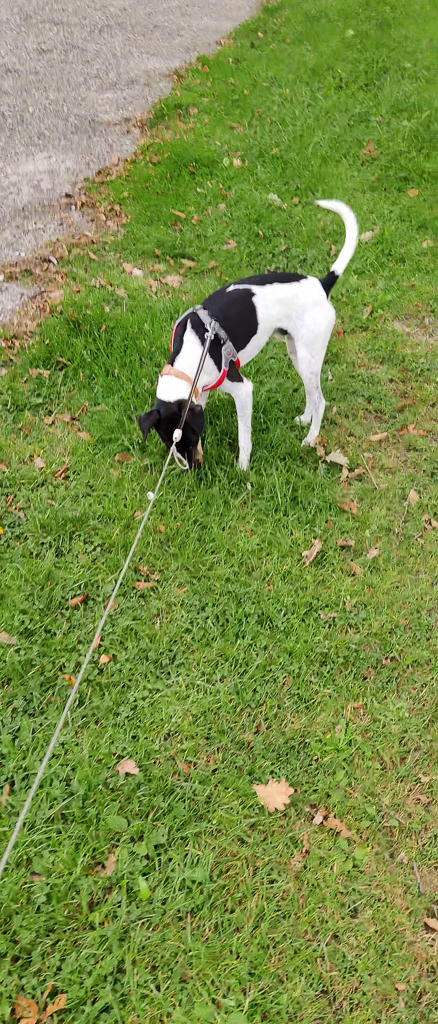Dog: (127, 191, 378, 490)
